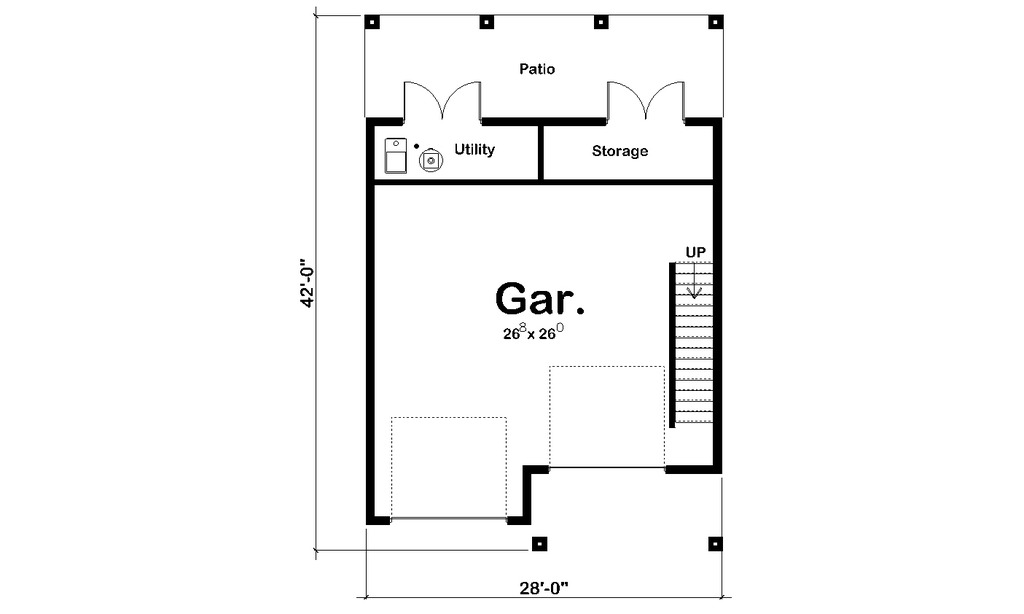door: (605, 77, 684, 124), (401, 79, 486, 120)
stairs: (669, 243, 716, 428)
windows: (411, 78, 491, 122), (603, 79, 688, 119)
